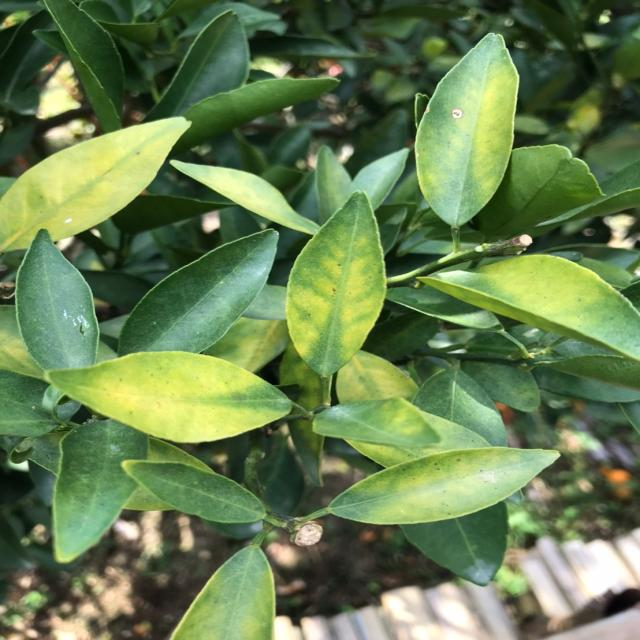blackspot: (60, 343, 293, 436), (457, 249, 640, 358), (330, 447, 550, 529), (286, 193, 387, 356)
